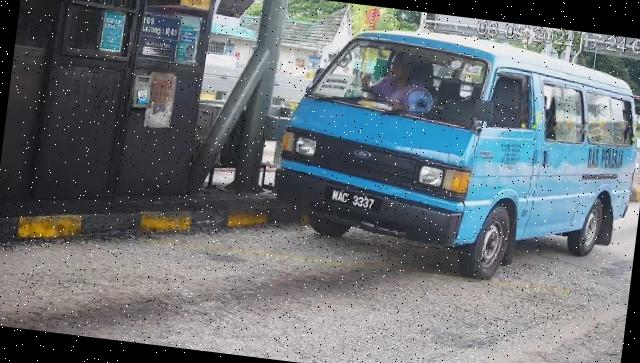License_Plate: (322, 185, 382, 215)
van: (267, 16, 640, 297)
